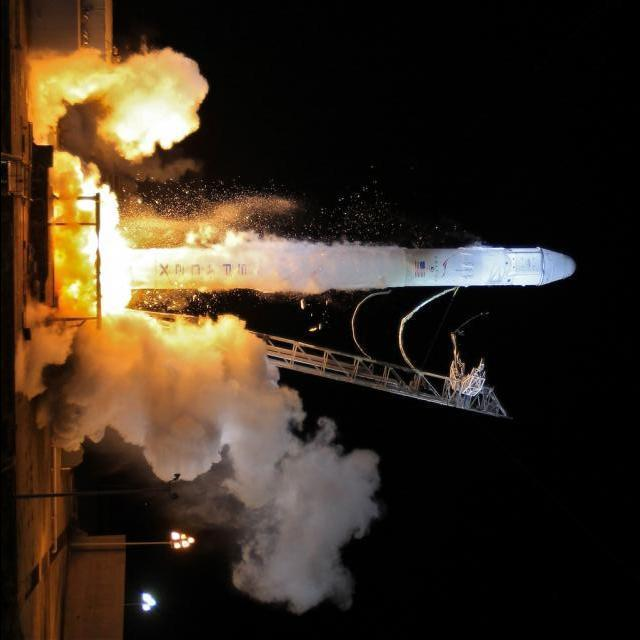missile: (132, 242, 582, 288)
